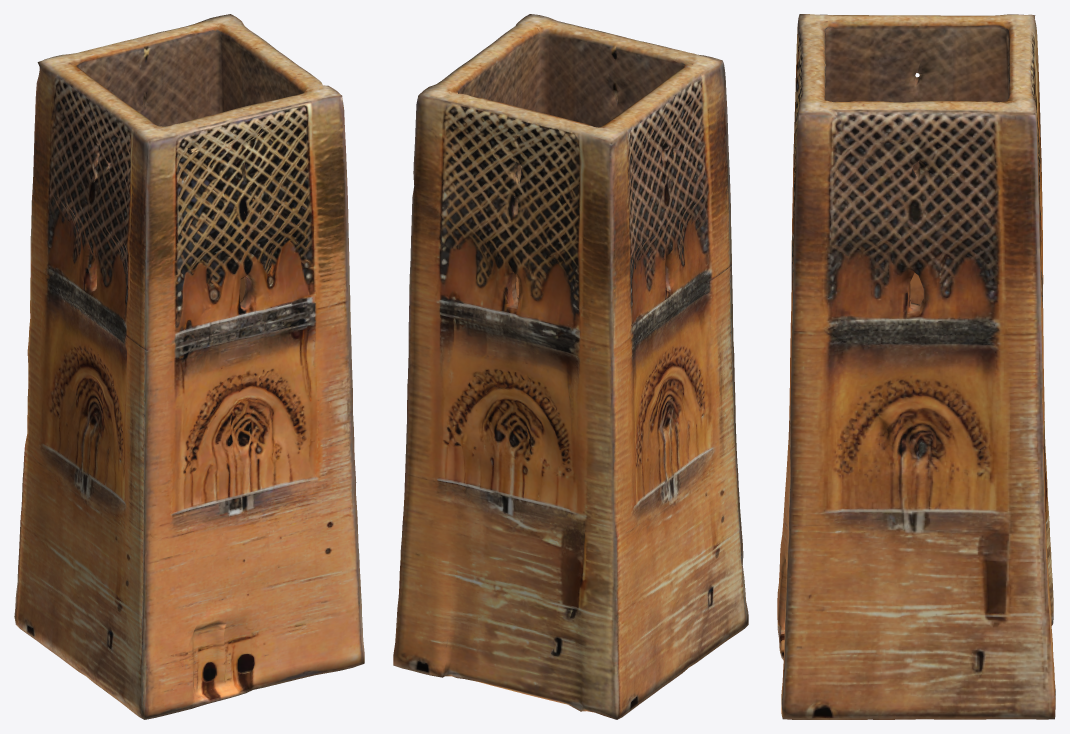
File: tour-hassan.glb
The picture shows the model from 3 angles, left to right: view 1: azimuth 30°, elevation 25°; view 2: azimuth 150°, elevation 25°; view 3: azimuth 270°, elevation 25°; orthographic projection. The views are drawn at different scales.
Visible parts, largest first — view 1: Mesh1_Mesh1.015; view 2: Mesh1_Mesh1.015; view 3: Mesh1_Mesh1.015.
Part boxes in pixels (x1=…): Mesh1_Mesh1.015: x1=14, y1=14, x2=364, y2=719; Mesh1_Mesh1.015: x1=393, y1=14, x2=748, y2=719; Mesh1_Mesh1.015: x1=777, y1=14, x2=1055, y2=719.
Bounding box in the file's own units: 0.8265 × 2 × 0.8396.
Materials: 1 (1 with a texture image).
